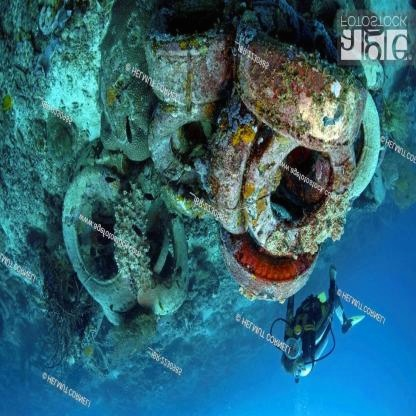tire: (223, 16, 372, 136), (44, 162, 138, 329), (240, 112, 348, 250), (119, 174, 198, 324), (133, 10, 233, 96), (215, 226, 315, 308), (193, 99, 246, 250), (332, 71, 387, 202), (125, 95, 205, 183)
